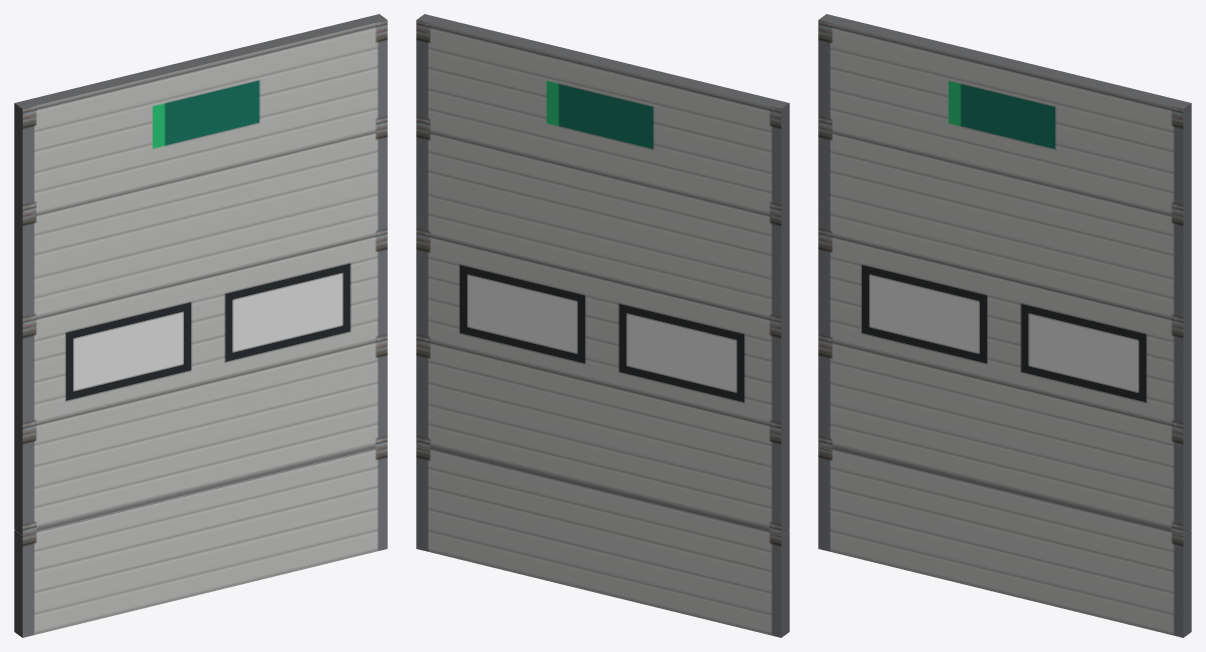
Rendered from DoorFresh.FBX.
The picture shows the model from 3 angles, left to right: view 1: azimuth 30°, elevation 25°; view 2: azimuth 150°, elevation 25°; view 3: azimuth 330°, elevation 25°; orthographic projection.
Parts seen in each view (by area): view 1: DoorFresh5, DoorFresh2, DoorFresh3, DoorFresh4, DoorFresh1; view 2: DoorFresh5, DoorFresh2, DoorFresh3, DoorFresh4, DoorFresh1; view 3: DoorFresh5, DoorFresh2, DoorFresh3, DoorFresh4, DoorFresh1.
Part boxes in pixels (left/top/right/bottom): DoorFresh5: left=14, top=14, right=387, bottom=218; DoorFresh2: left=14, top=340, right=387, bottom=535; DoorFresh3: left=14, top=233, right=387, bottom=428; DoorFresh4: left=14, top=130, right=387, bottom=322; DoorFresh1: left=14, top=447, right=387, bottom=637; DoorFresh5: left=416, top=14, right=789, bottom=218; DoorFresh2: left=416, top=340, right=789, bottom=535; DoorFresh3: left=416, top=233, right=789, bottom=428; DoorFresh4: left=416, top=130, right=789, bottom=322; DoorFresh1: left=416, top=447, right=789, bottom=637; DoorFresh5: left=818, top=14, right=1191, bottom=218; DoorFresh2: left=818, top=340, right=1191, bottom=535; DoorFresh3: left=818, top=233, right=1191, bottom=428; DoorFresh4: left=818, top=130, right=1191, bottom=322; DoorFresh1: left=818, top=447, right=1191, bottom=637.
Size of the model in its own units: 1.78 by 2.47 by 0.0684.
Materials: 1 (1 with a texture image).
